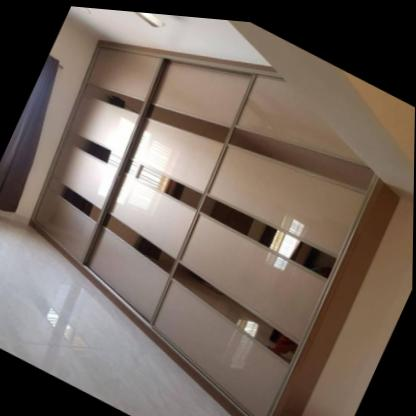Ceramic floor: (0, 212, 239, 416)
Closet: (30, 43, 399, 416)
